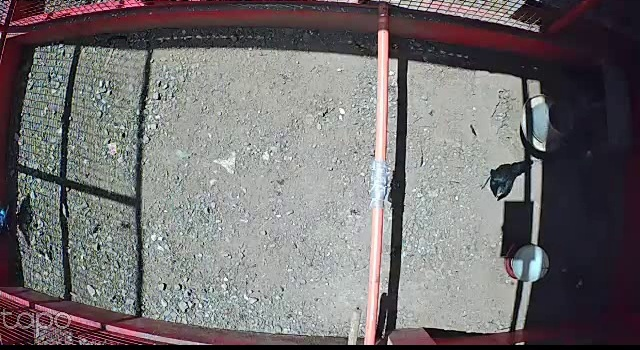Chicken: (479, 161, 534, 201)
Drinker: (505, 243, 551, 283)
Feeder: (520, 94, 579, 154)
